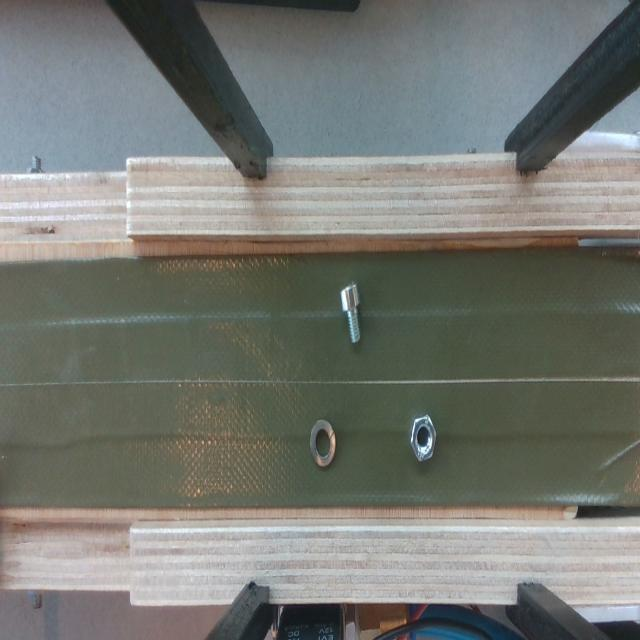Bolt: (340, 283, 360, 341)
Nut: (410, 414, 436, 460)
washer: (310, 419, 335, 466)
